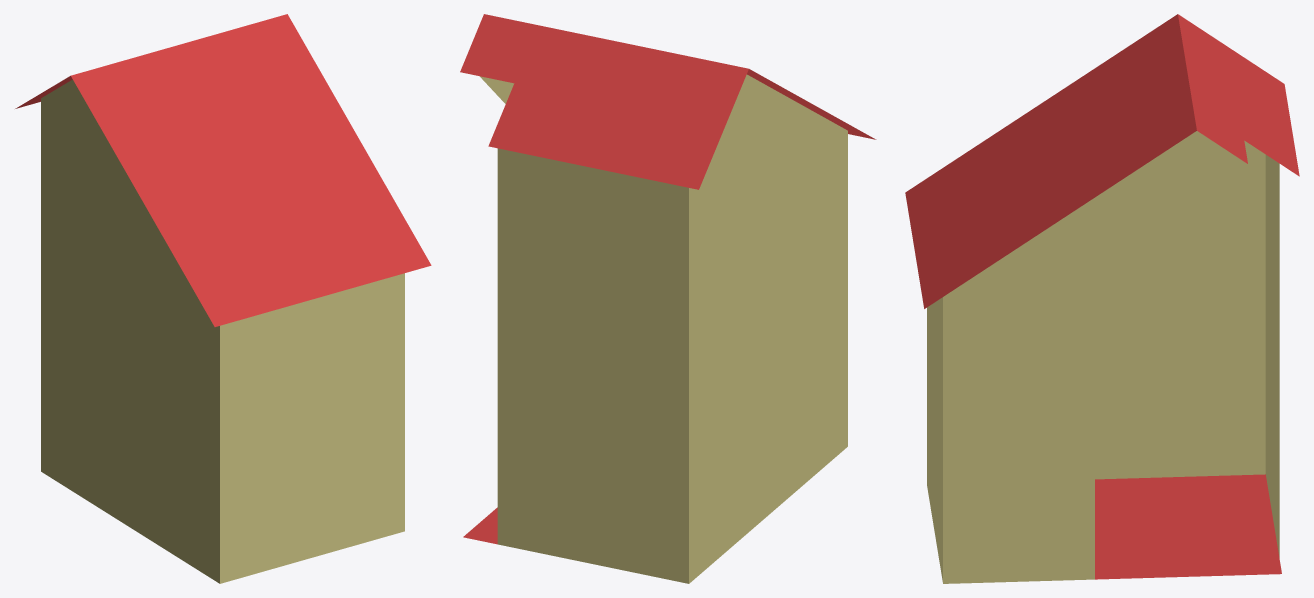
The picture shows the model from 3 angles, left to right: view 1: azimuth 30°, elevation 25°; view 2: azimuth 150°, elevation 25°; view 3: azimuth 270°, elevation 25°; orthographic projection. The views are drawn at different scales.
Bounding box in the file's own units: 7.46 × 9.73 × 12.37.
